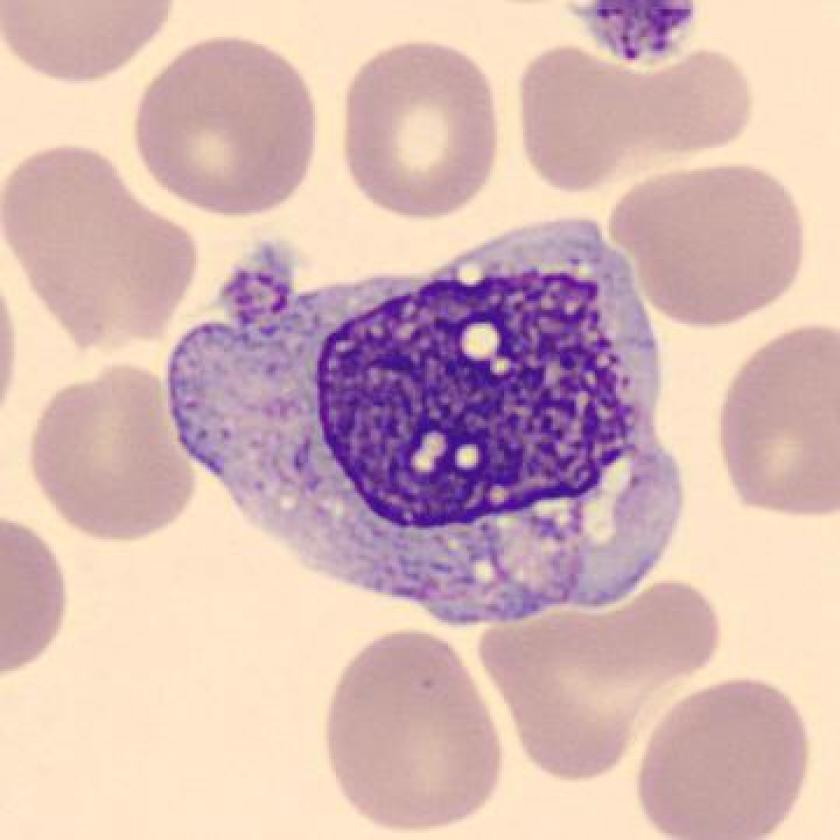monocyte: (155, 186, 706, 644)
